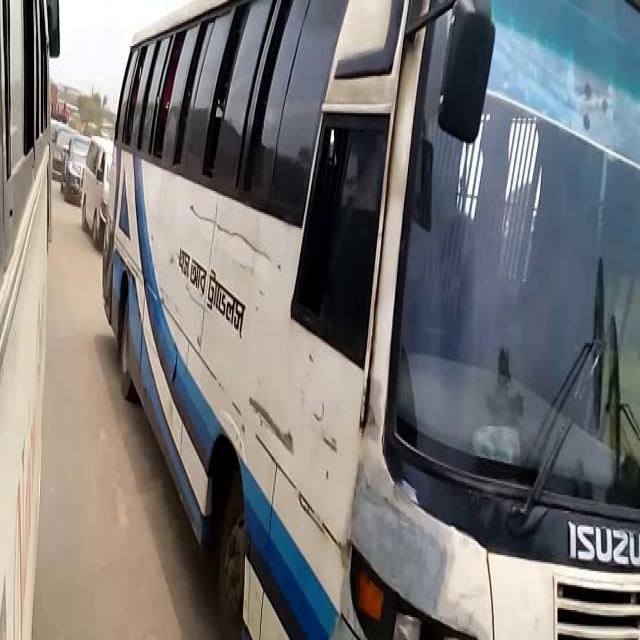vehicle: (99, 3, 639, 632), (3, 1, 54, 636), (81, 136, 113, 251), (61, 134, 89, 203)
